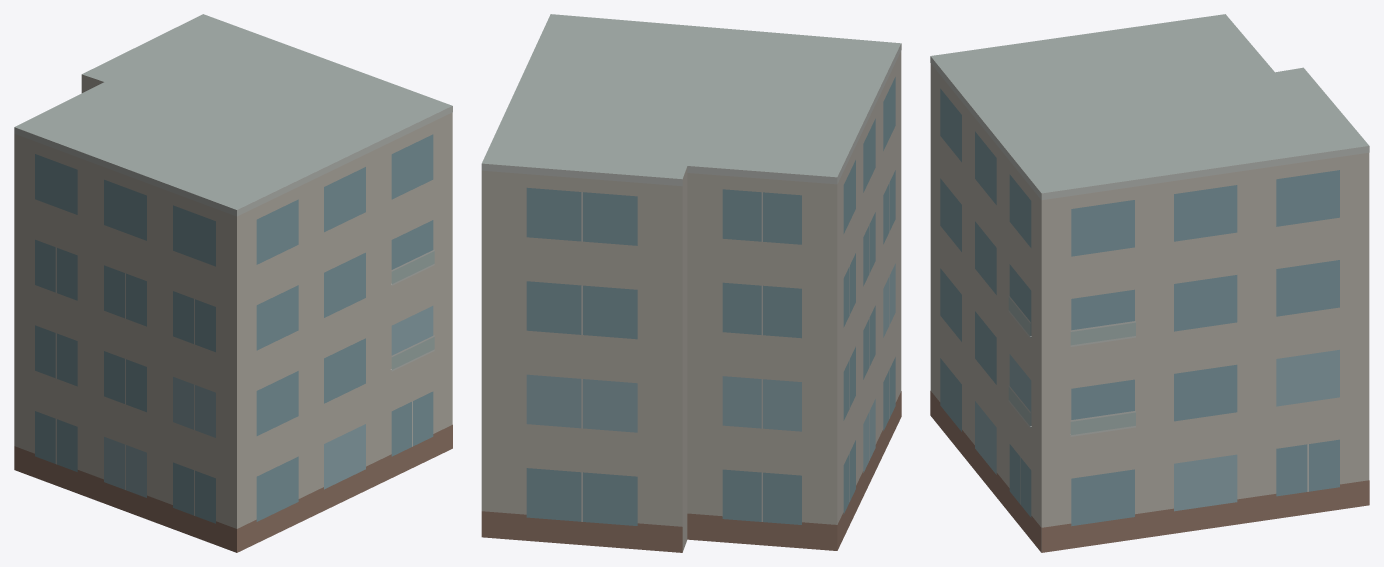
Rendered from survey-upis-32699606.glb.
3 renders of one model, left to right at view 1: azimuth 30°, elevation 25°; view 2: azimuth 150°, elevation 25°; view 3: azimuth 270°, elevation 25°, orthographic. The views are drawn at different scales.
Visible parts, largest first — view 1: survey-upis-32699606.tmp; view 2: survey-upis-32699606.tmp; view 3: survey-upis-32699606.tmp.
Boxes of the visible parts, x1,y1,x2,y2 form: survey-upis-32699606.tmp: (14,14,452,552); survey-upis-32699606.tmp: (481,14,901,552); survey-upis-32699606.tmp: (930,14,1369,552).
Bounding box in the file's own units: 13.82 × 12.9 × 14.29.
